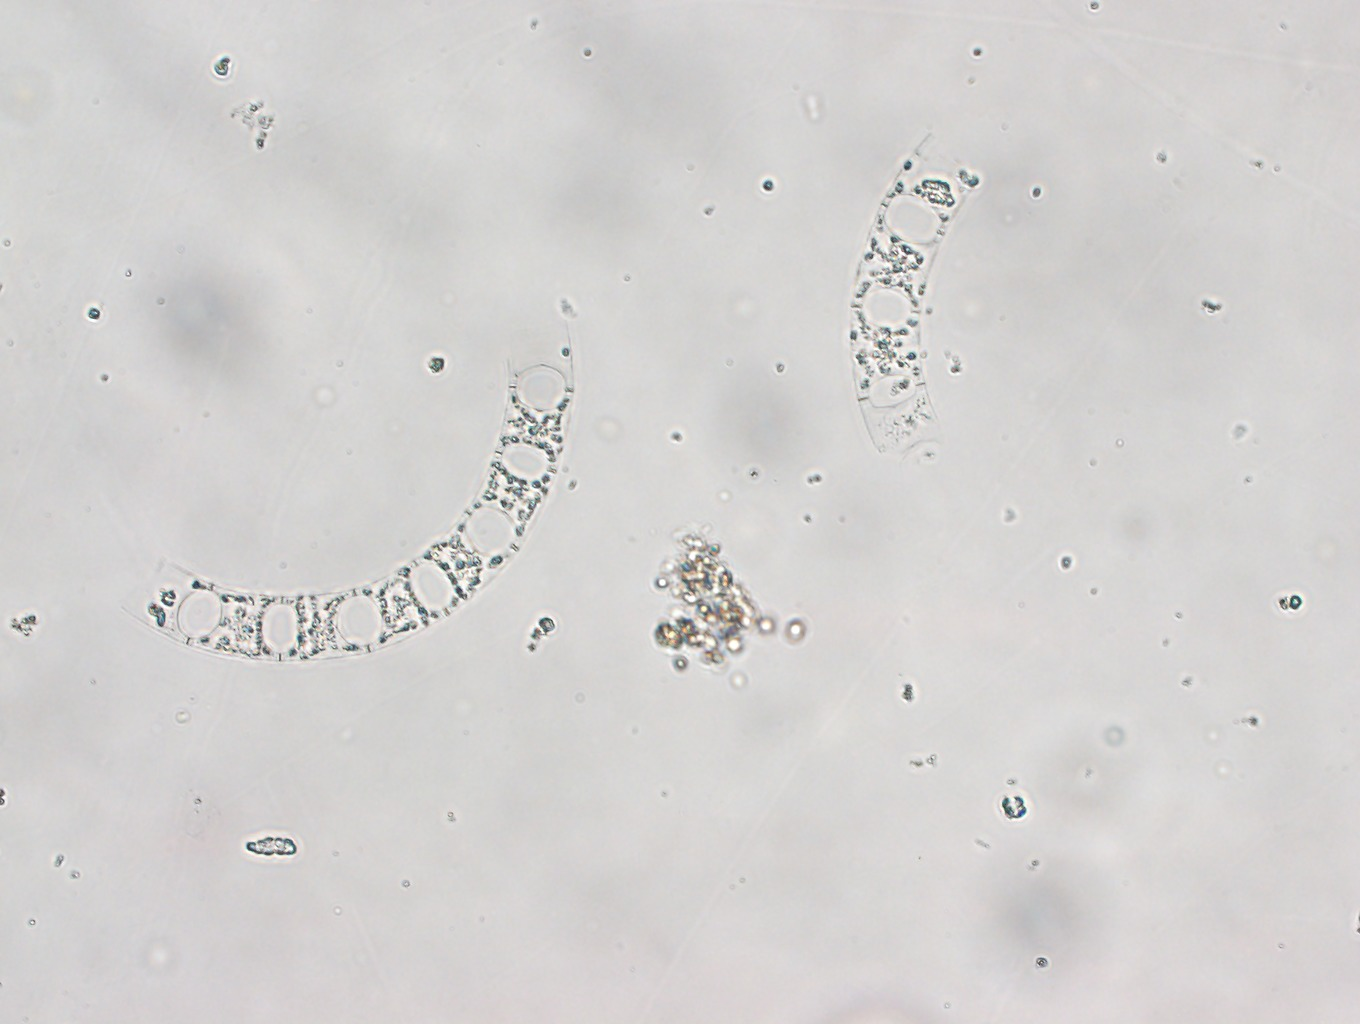eucampia: (123, 313, 578, 662), (838, 125, 992, 487)
